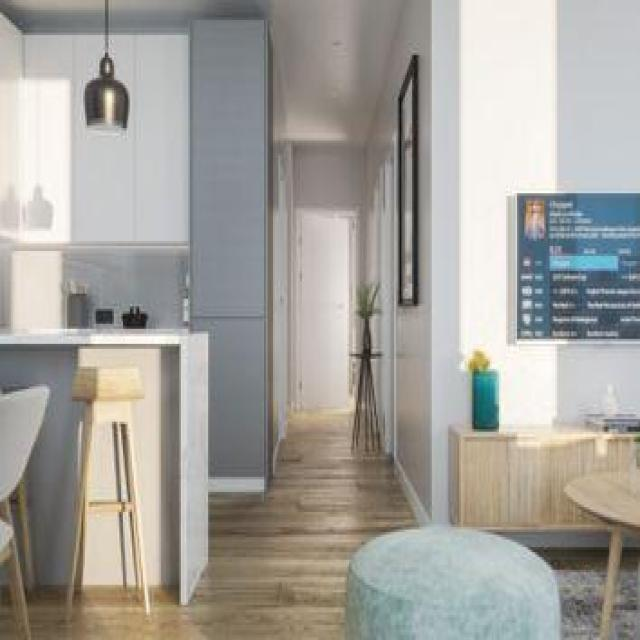Wall: (29, 411, 416, 639), (460, 0, 640, 425), (110, 0, 403, 143), (394, 0, 469, 521), (429, 0, 469, 521), (0, 239, 189, 329), (294, 99, 390, 209), (384, 12, 429, 145), (538, 550, 606, 638), (0, 0, 102, 32), (612, 550, 639, 638), (0, 600, 16, 638)
